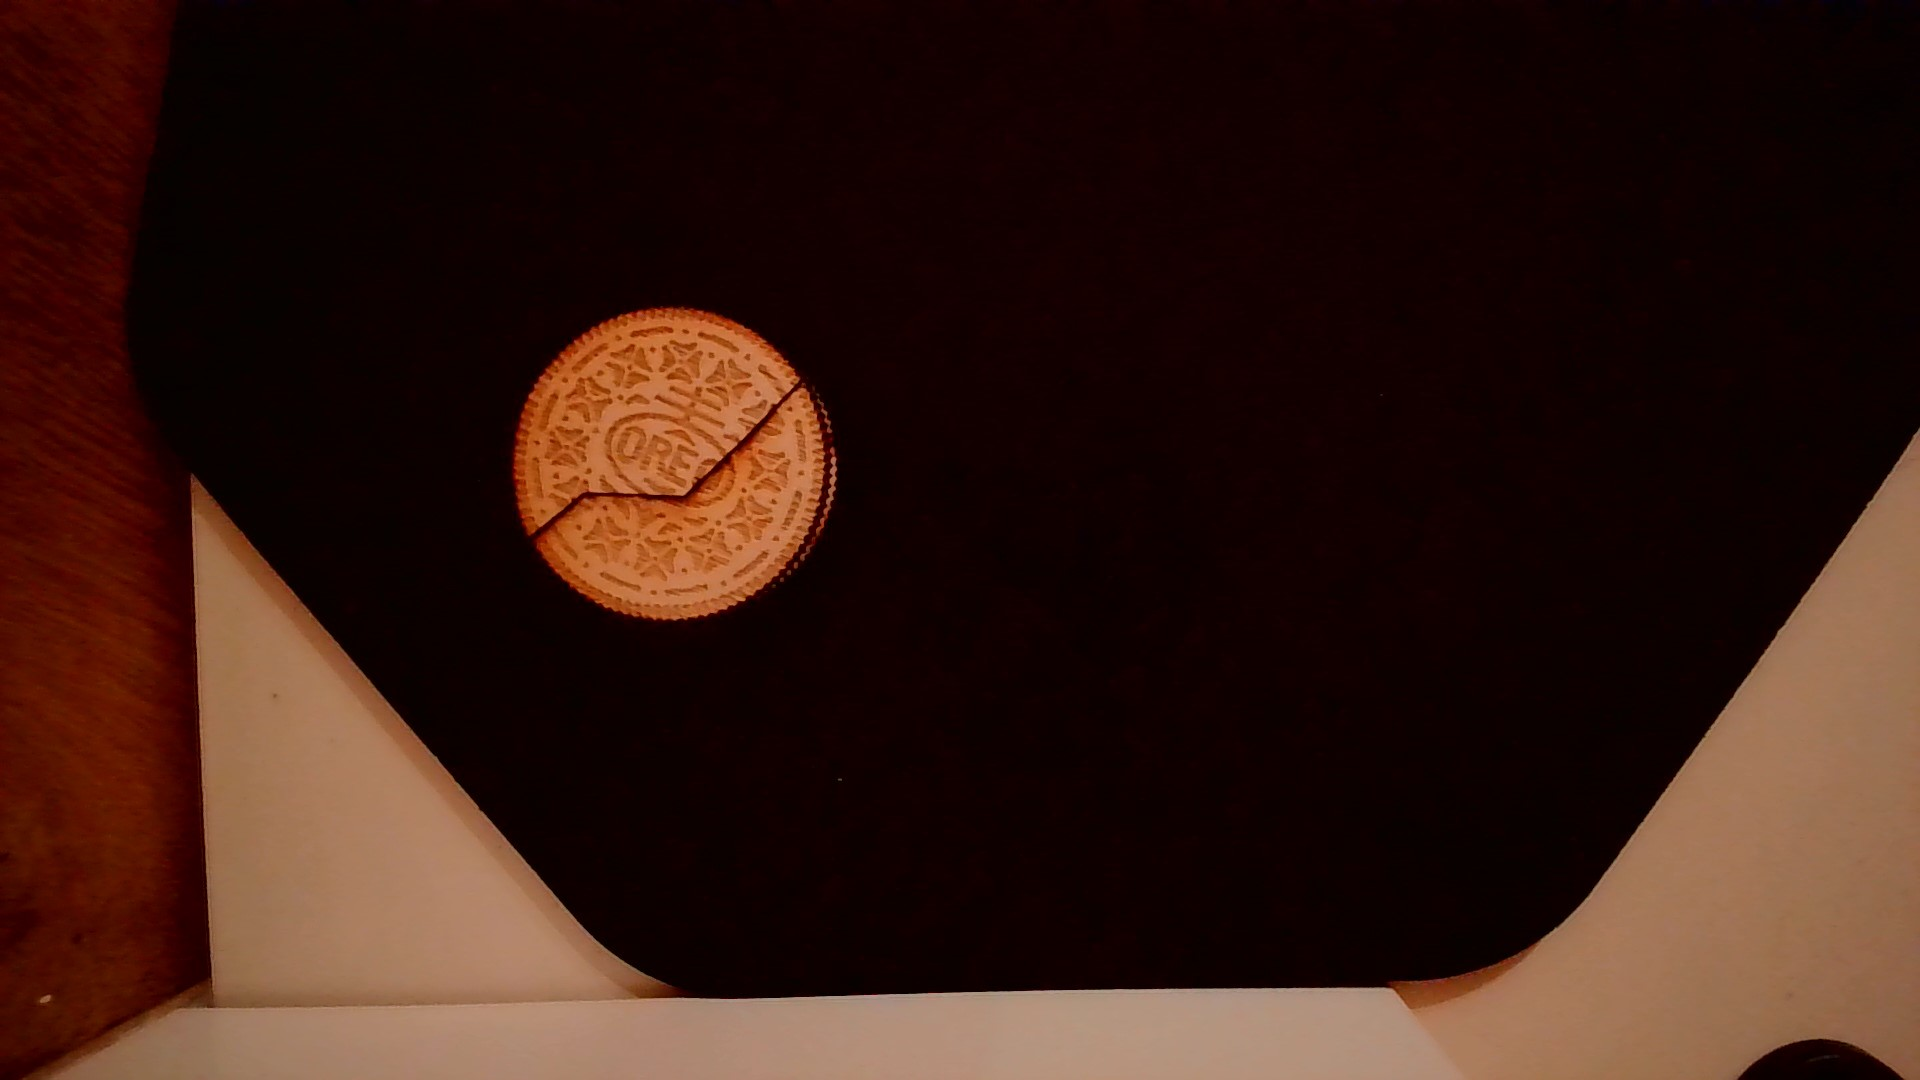Fissure: (524, 360, 811, 554)
Oréo: (501, 298, 847, 628)
